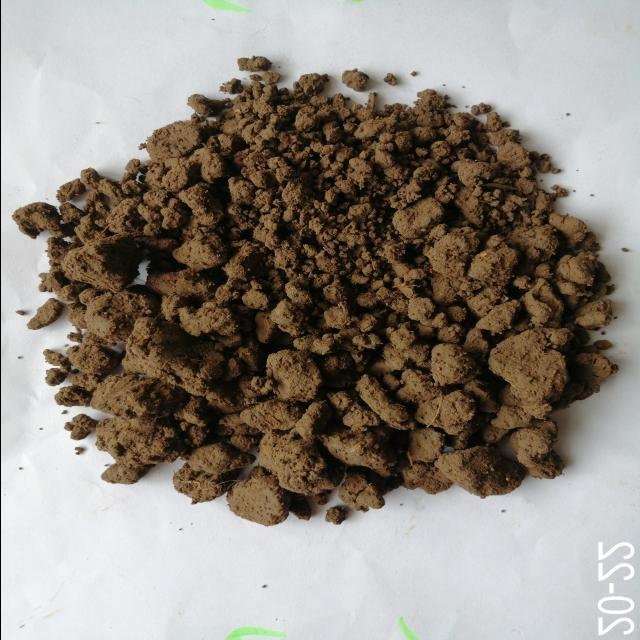soil: (100, 143, 556, 481)
